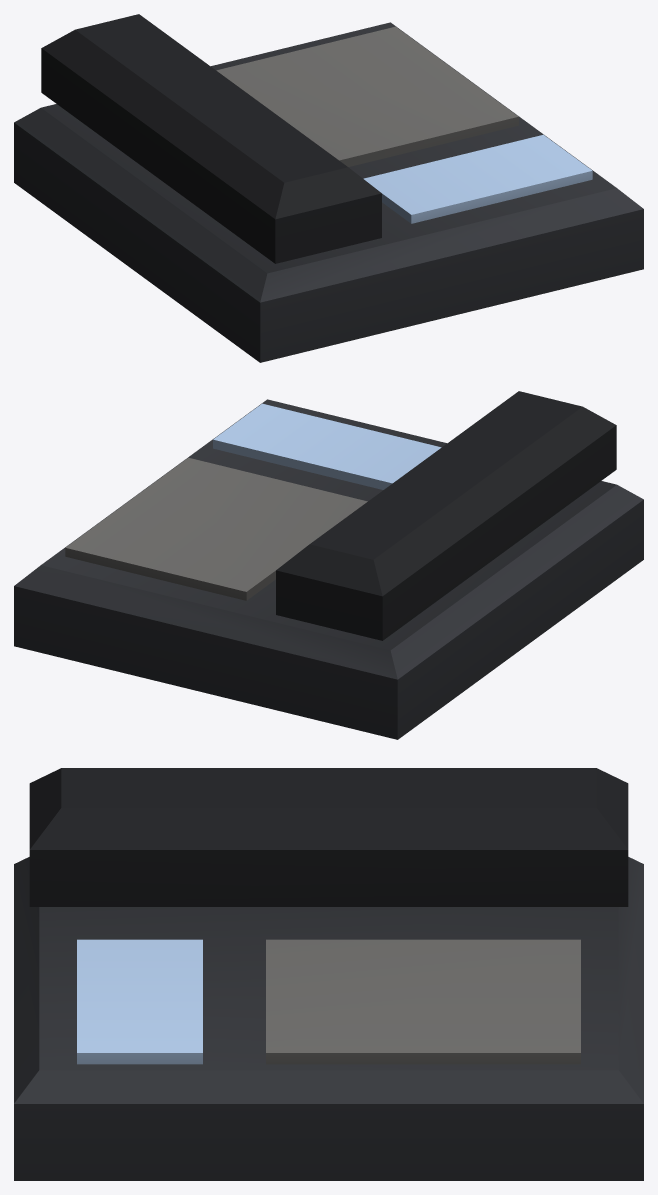
The model's file is phone_desk_01.glb.
3 renders of one model, top to bottom at view 1: azimuth 30°, elevation 25°; view 2: azimuth 150°, elevation 25°; view 3: azimuth 270°, elevation 25°, orthographic. The views are drawn at different scales.
Visible parts, largest first — view 1: phone_desk_01_mesh; view 2: phone_desk_01_mesh; view 3: phone_desk_01_mesh.
Boxes of the visible parts, x1,y1,x2,y2 form: phone_desk_01_mesh: (14, 14, 643, 362); phone_desk_01_mesh: (14, 391, 643, 739); phone_desk_01_mesh: (14, 768, 643, 1180).
Bounding box in the file's own units: 0.18 × 0.07 × 0.2.
1 material, 1 textured.
